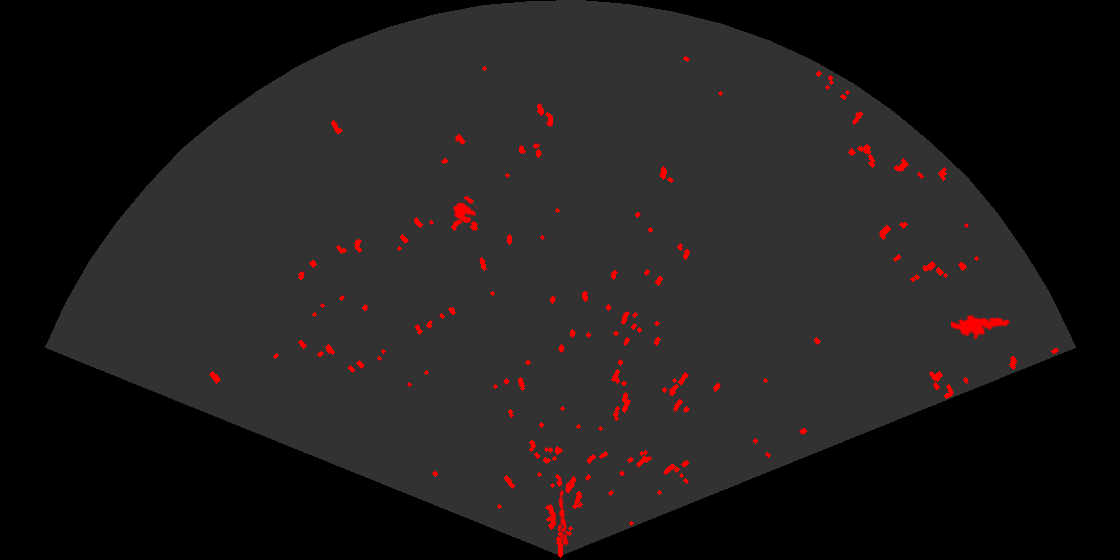ball: (452, 194, 478, 225)
chain: (557, 488, 570, 546)
frogman: (951, 313, 1011, 341)
